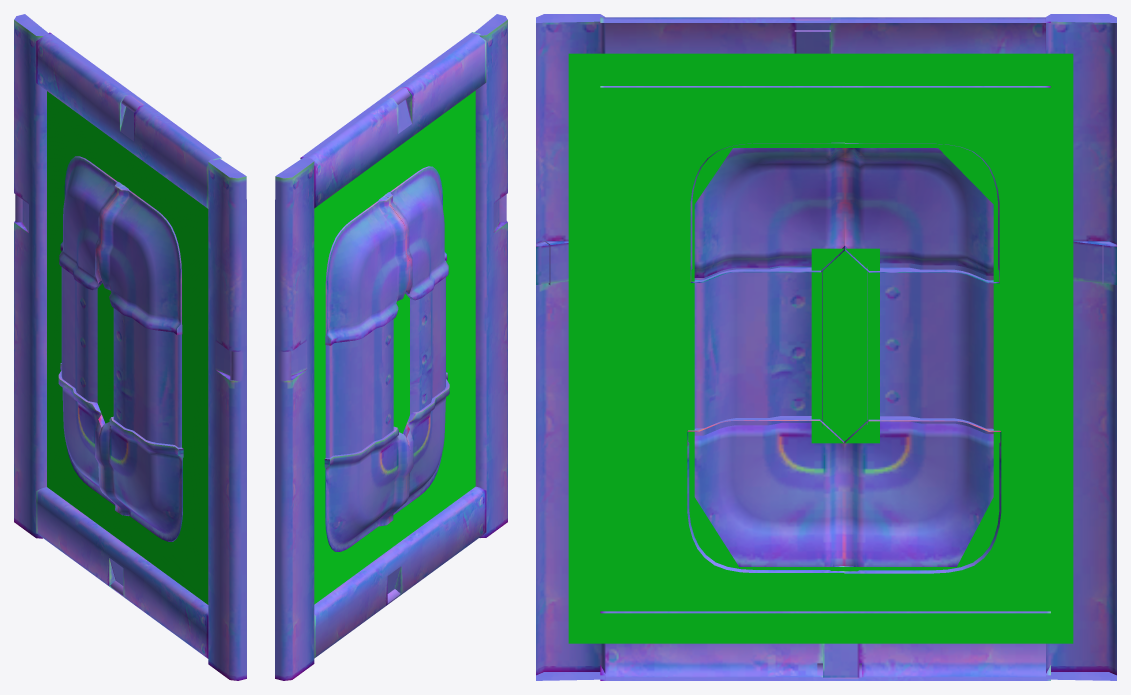
Rendered from Wall_Interior_400x500_B.fbx.
3 renders of one model, left to right at view 1: azimuth 30°, elevation 25°; view 2: azimuth 150°, elevation 25°; view 3: azimuth 270°, elevation 25°, orthographic. The views are drawn at different scales.
Parts seen in each view (by area): view 1: Geom_Wall_Interior_400x500_B_LOD00; view 2: Geom_Wall_Interior_400x500_B_LOD00; view 3: Geom_Wall_Interior_400x500_B_LOD00.
Part boxes in pixels (box(x1,y1,x2,y2)): Geom_Wall_Interior_400x500_B_LOD00: box(14, 14, 246, 680); Geom_Wall_Interior_400x500_B_LOD00: box(275, 14, 507, 680); Geom_Wall_Interior_400x500_B_LOD00: box(536, 14, 1116, 680).
Size of what is drawn, in the model's own units: 32.34 by 500 by 400.
